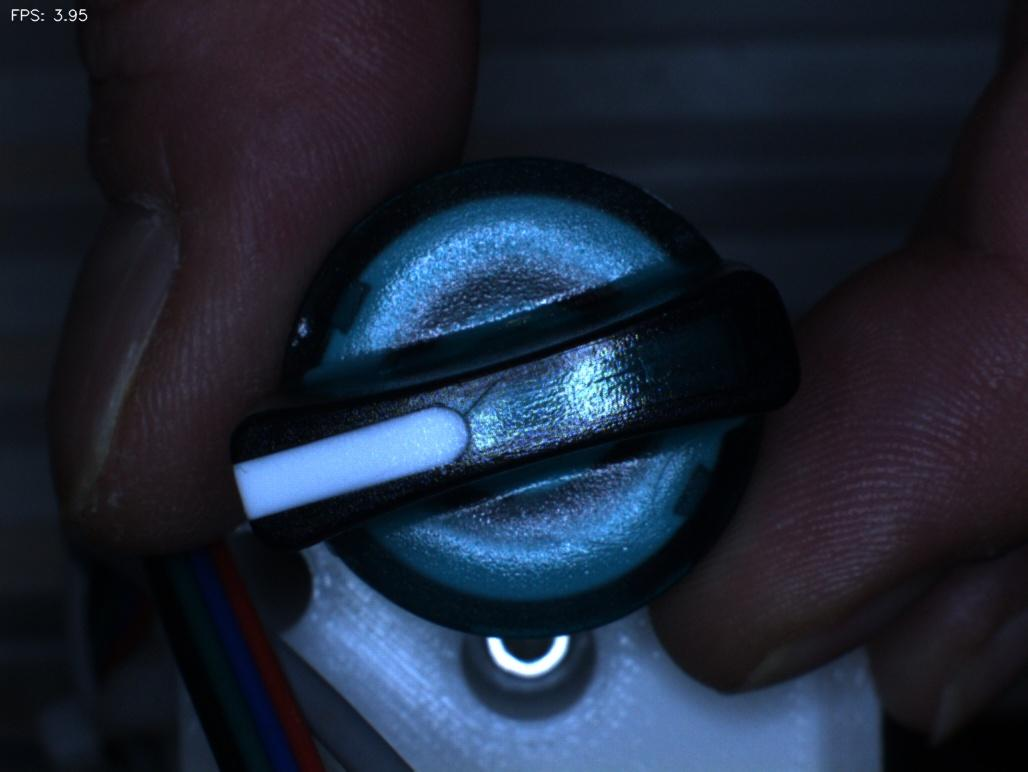Choc: (258, 288, 343, 371)
